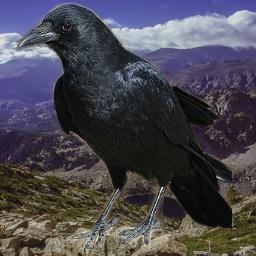Crow: (15, 2, 232, 254)
